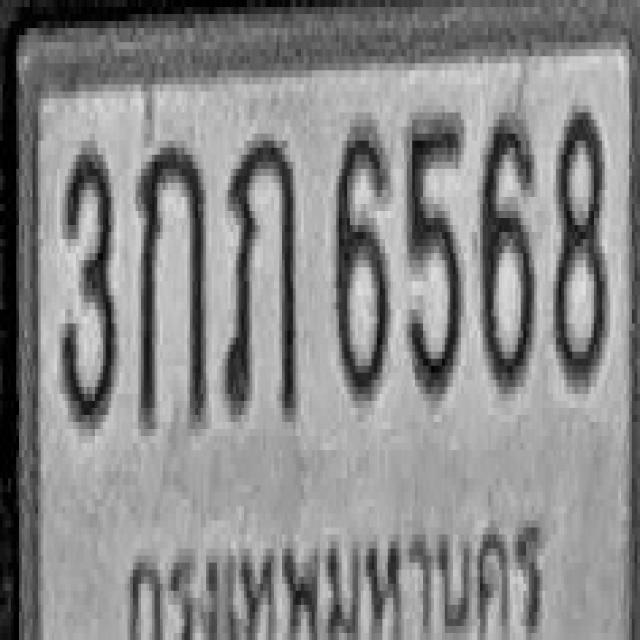10GorGai: (137, 137, 205, 426)
3: (60, 141, 116, 422)
41PhorSamPhao: (224, 127, 297, 415)
5: (406, 105, 462, 394)
6: (333, 116, 388, 397), (480, 105, 534, 387)
8: (552, 102, 606, 383)
Bangkok: (122, 501, 549, 640)
